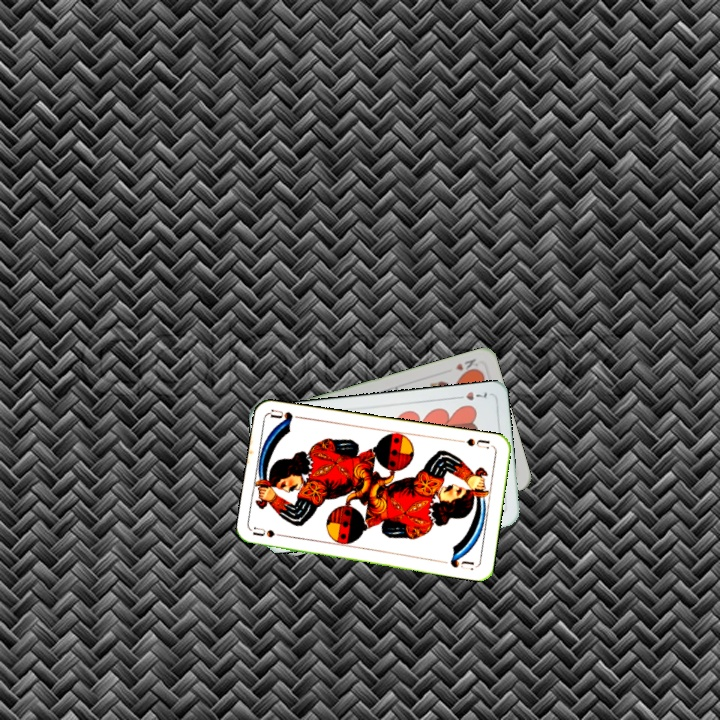H7: (451, 388, 490, 403)
HK: (451, 354, 483, 377)
SU: (455, 434, 495, 452), (250, 523, 291, 540)
